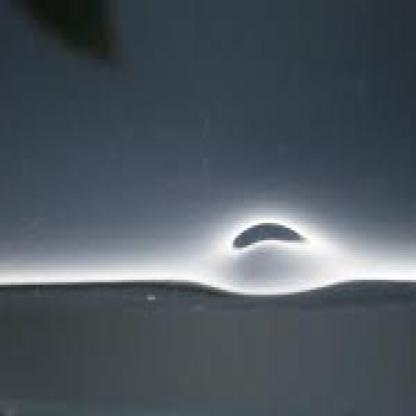dent: (226, 209, 312, 288)
